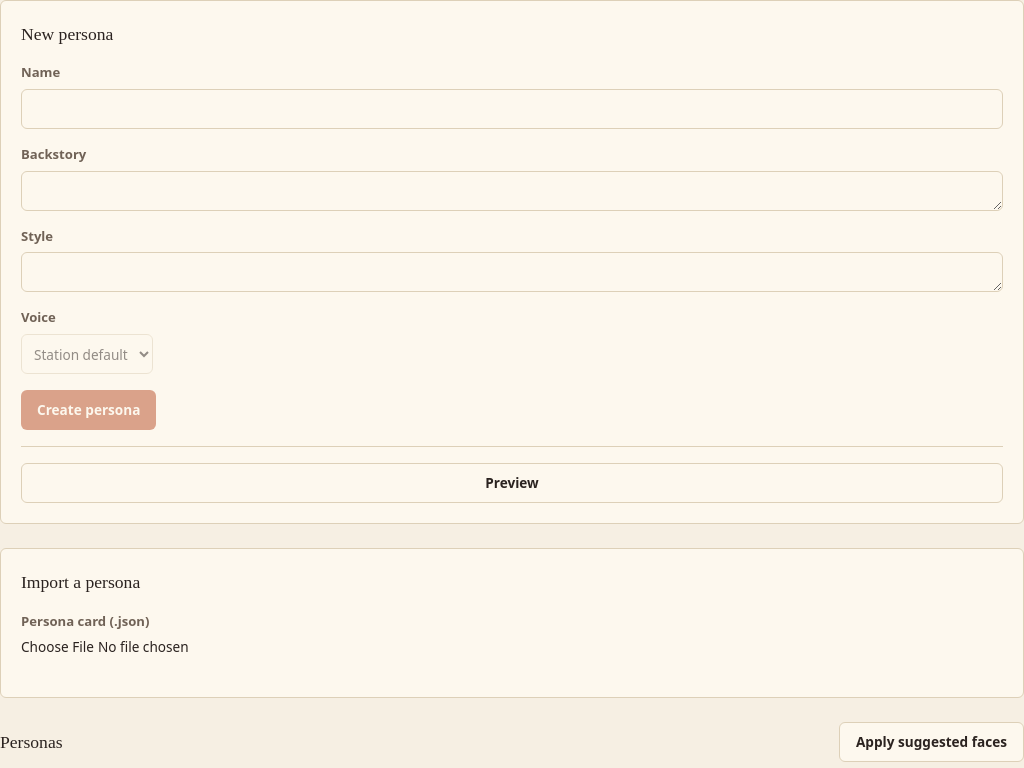
Scenario: Feature: Author personas from the console › Scenario: CRUD from the page › creates a persona and shows it in the list
In the field labelled "Name": (512, 109) x1=21 y1=89 x2=1003 y2=129, type "The Professor"
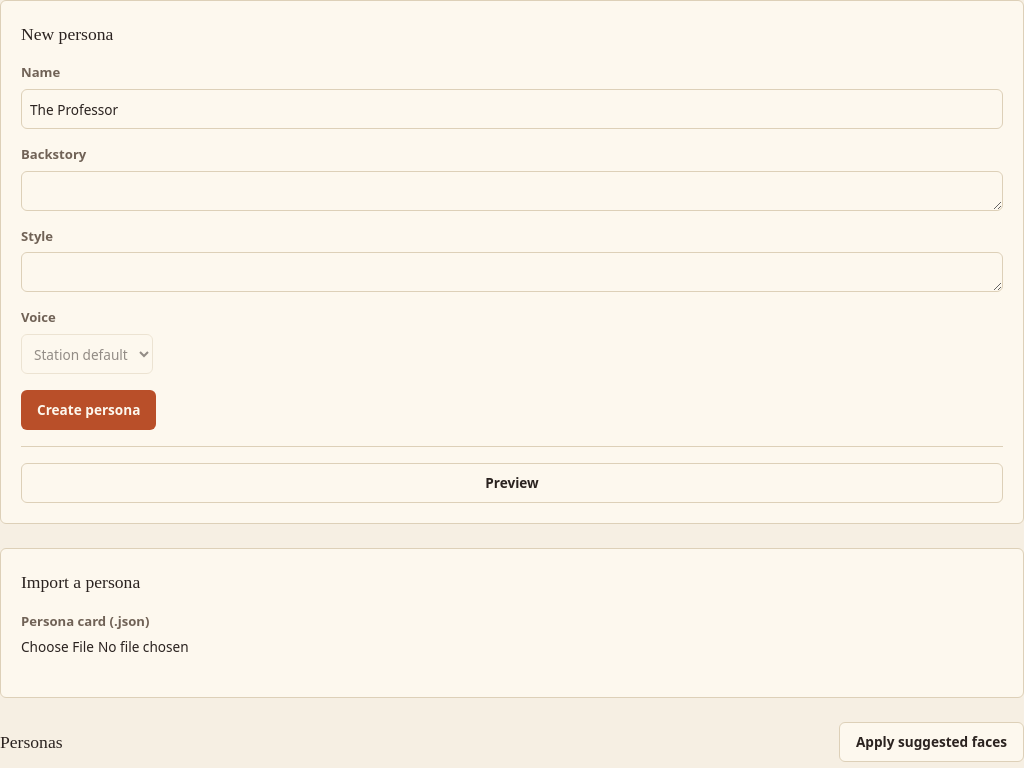
In the text box labelled "Backstory": (512, 191) x1=21 y1=171 x2=1003 y2=211, type "Dry wit, deep crates."
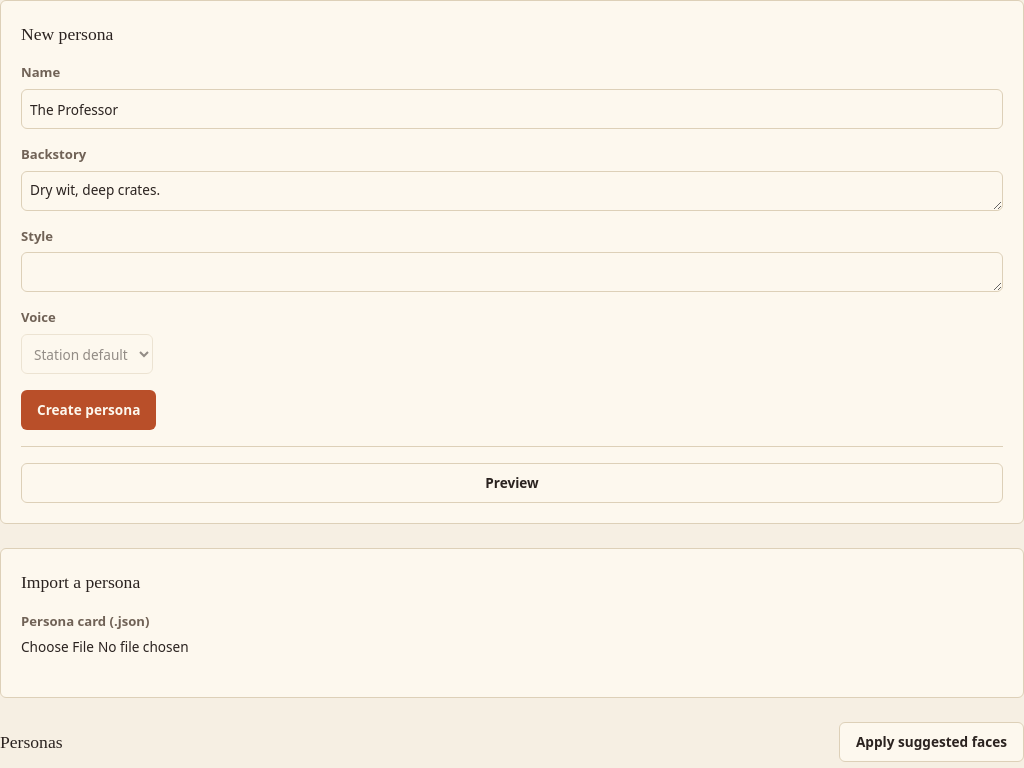
In the text box labelled "Style": (512, 272) x1=21 y1=252 x2=1003 y2=292, type "Deadpan."
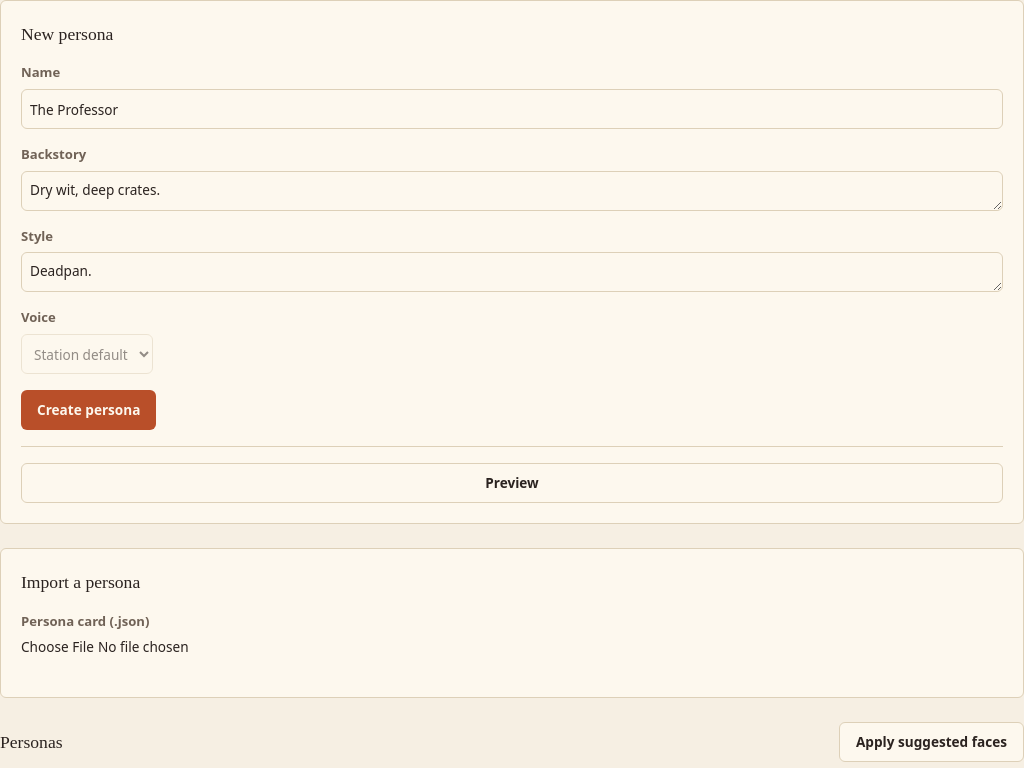
Click the button "Create persona": (89, 410) x1=21 y1=390 x2=156 y2=430
(page scrolled)
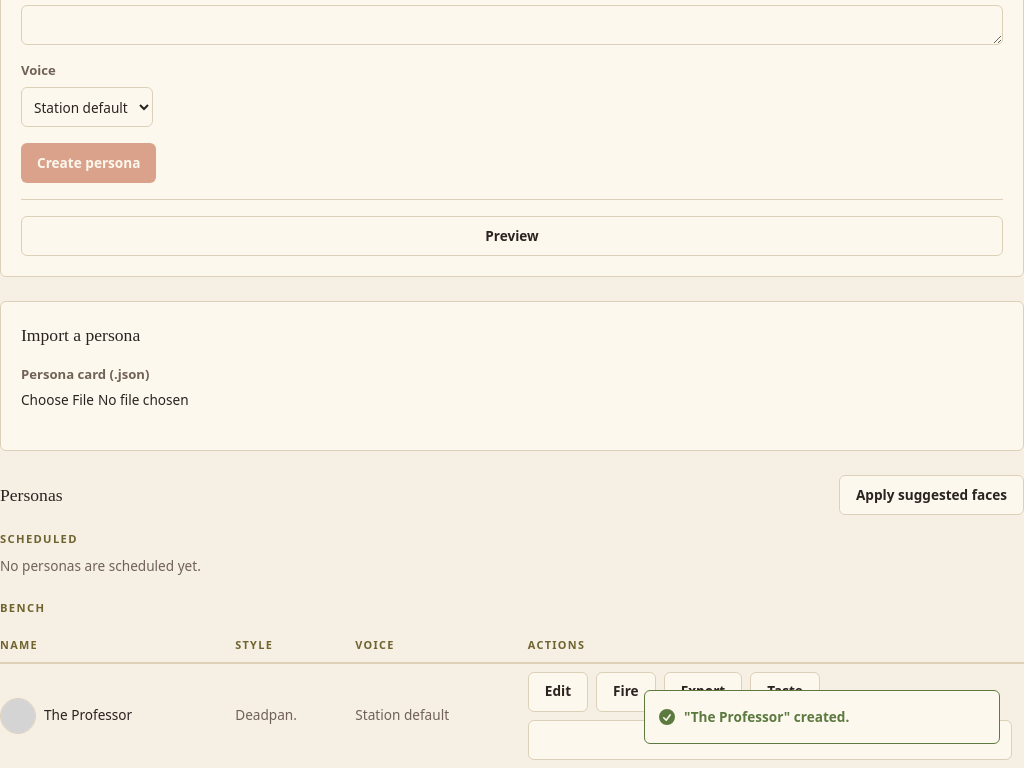
Now the text "The Professor" is shown, box x1=44 y1=705 x2=132 y2=726
